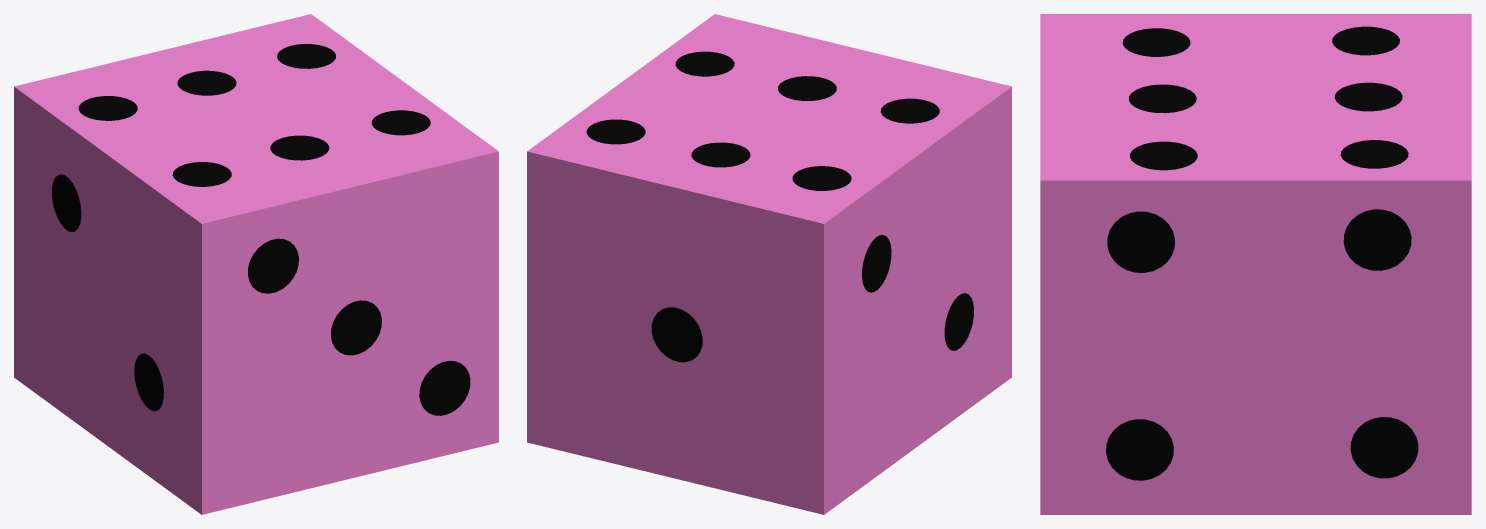
Rendered from dado_naye.obj.
3 views of the same model, side by side, from view 1: azimuth 30°, elevation 25°; view 2: azimuth 150°, elevation 25°; view 3: azimuth 270°, elevation 25° (orthographic). The views are drawn at different scales.
Visible parts, largest first — view 1: Mesh1 Model; view 2: Mesh1 Model; view 3: Mesh1 Model.
Boxes of the visible parts, left/top/right/bottom form: Mesh1 Model: left=14, top=14, right=498, bottom=514; Mesh1 Model: left=527, top=14, right=1011, bottom=514; Mesh1 Model: left=1040, top=14, right=1471, bottom=514.
Size of the model in its own units: 135 by 127 by 148.
